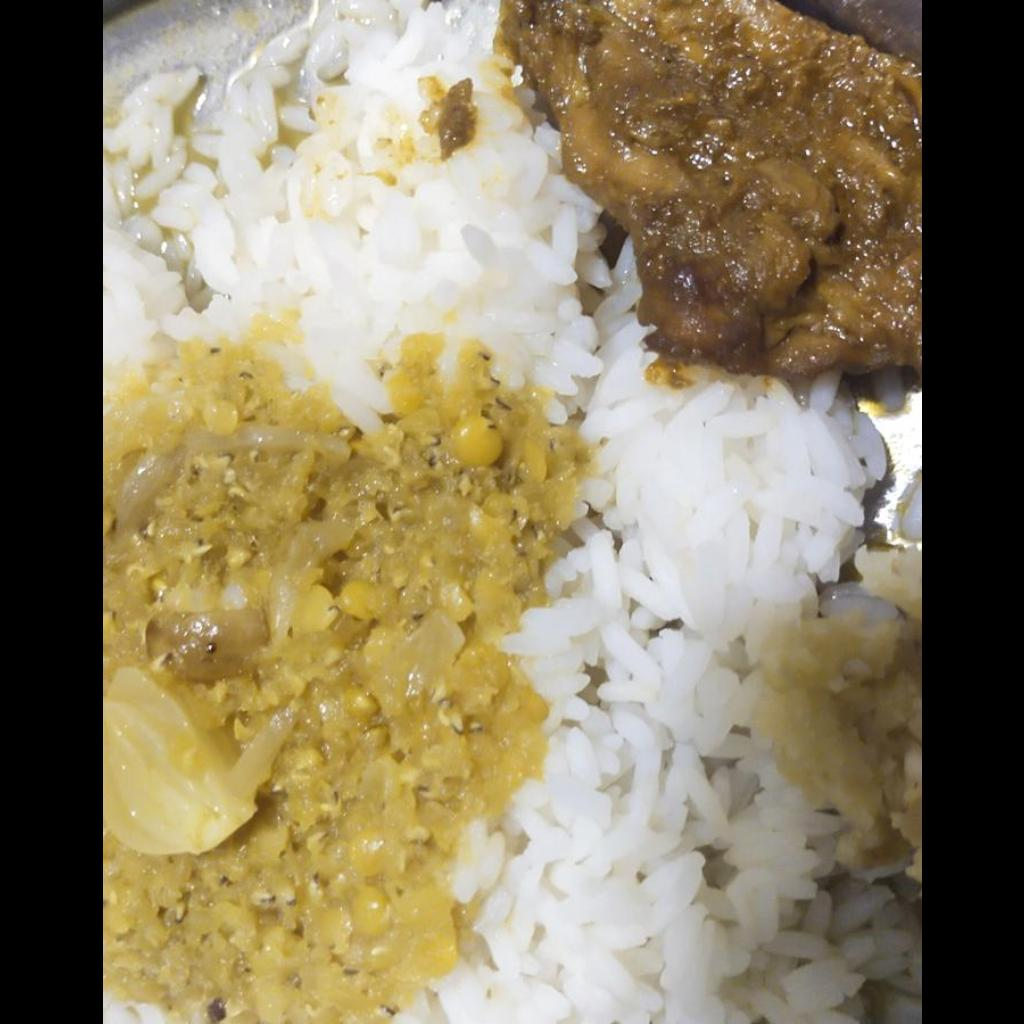chicken: (492, 1, 920, 393)
daal: (102, 346, 592, 1023)
rice: (104, 27, 920, 1018)
